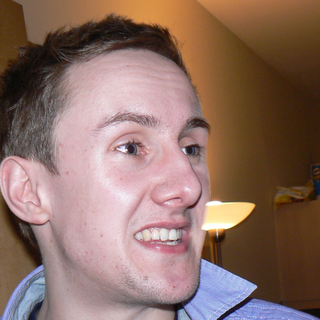eye: (106, 136, 150, 162), (172, 138, 212, 163)
